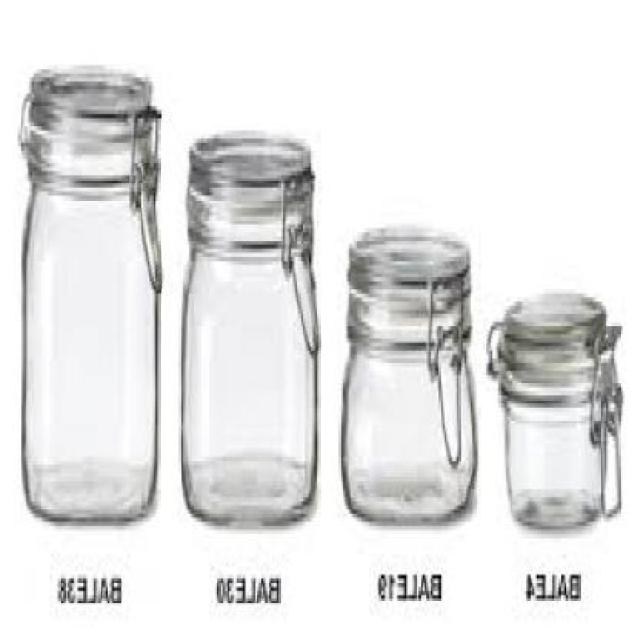GLASS: (24, 69, 162, 522), (182, 135, 321, 522), (345, 232, 481, 518), (490, 293, 624, 530)
